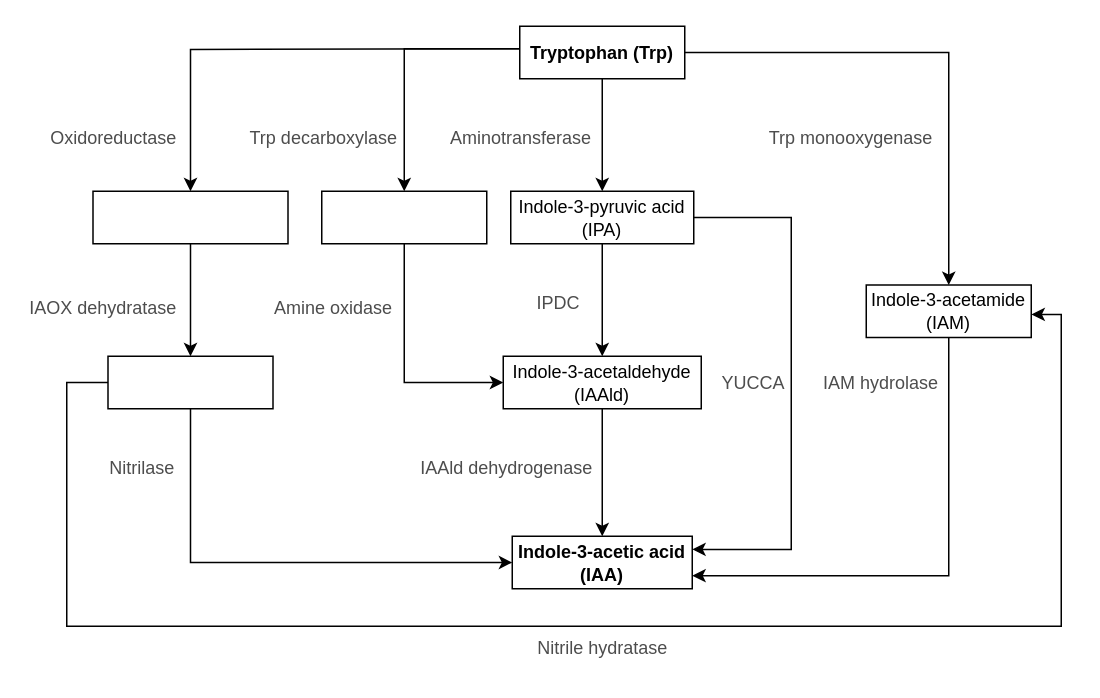
Some shapes in this 1100 by 698 pixel diagram are drawn without their labels. The centre of each missing label's shape, as x and y in pixels:
Indole-3-acetaldoxime (IAOX): the point at 190,217
Indole-3-acetonitrile (IAN): the point at 189,382
Tryptamine (TAM): the point at 403,217
